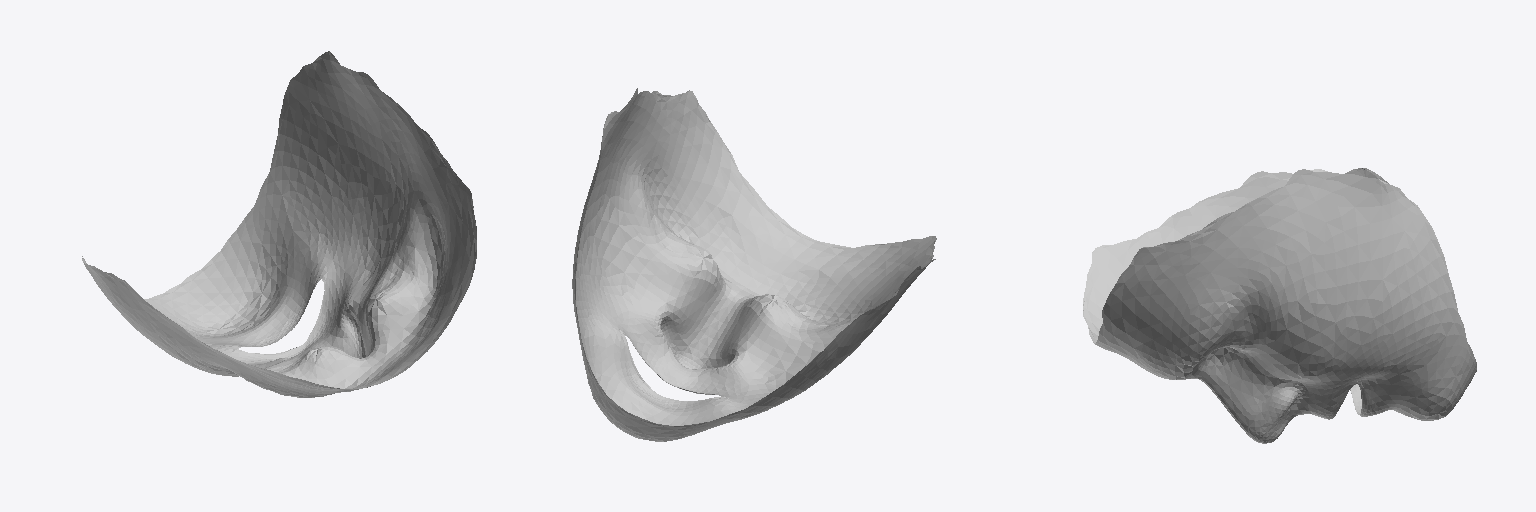
File: face_gab_sfm45.obj
The picture shows the model from 3 angles: view 1: azimuth 30°, elevation 25°; view 2: azimuth 150°, elevation 25°; view 3: azimuth 270°, elevation 25°; orthographic projection.
Bounding box in the file's own units: 165 × 153 × 188.